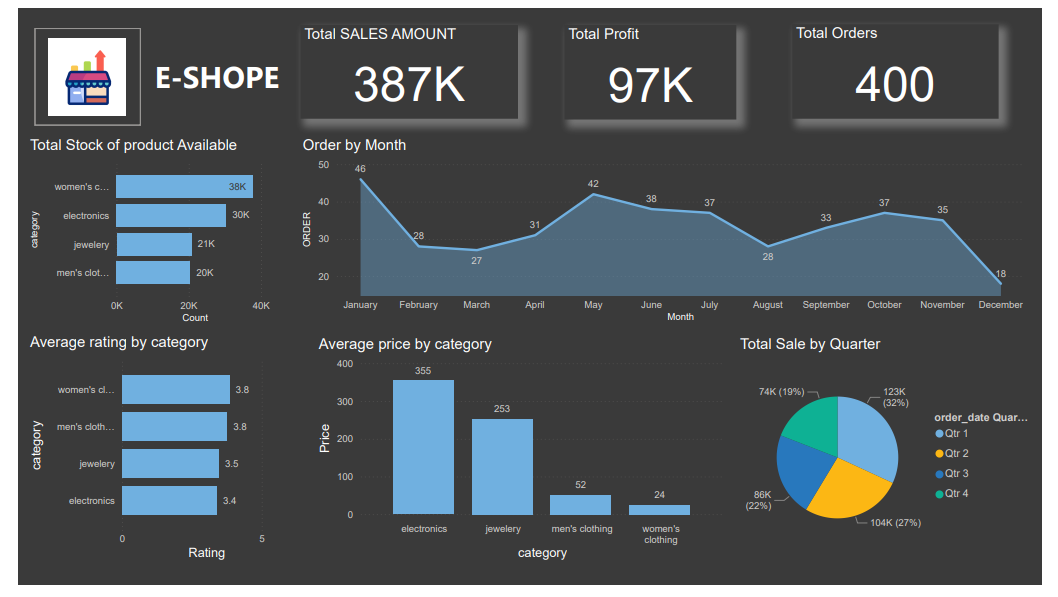

The dashboard page shown, as its layout file describes it:
{"tool":"powerbi","page":{"name":"Page 1","canvas":[1280,720],"ordinal":0},"visuals":[{"type":"clusteredBarChart","title":"Total Stock of product  Available ","fields":{"Category":["public pro_order.category"],"Y":["Sum(public pro_order.count)"]},"box":[10,160,326.2,237.5],"z":0},{"type":"clusteredColumnChart","title":"Average price by category","fields":{"Category":["pro_order.category"],"Y":["Avg(pro_order.price)"]},"box":[371.2,407.5,516.2,285],"z":1000},{"type":"clusteredBarChart","title":"Average rating by category","fields":{"Category":["pro_order.category"],"Y":["Avg(pro_order.rate)"]},"box":[10,406.2,341.2,286.2],"z":2000},{"type":"card","title":"Total SALES AMOUNT","fields":{"Values":["pro_order.Total Sale"]},"box":[352.5,21.2,272.5,116.2],"z":3000},{"type":"card","title":"Total Profit","fields":{"Values":["pro_order.Net_Profit"]},"box":[682.5,21.2,215,117.5],"z":4000},{"type":"pieChart","fields":{"Category":["pro_order.order_date.Variation.Date Hierarchy.Quarter"],"Y":["pro_order.Total Sale"]},"box":[897.5,407.5,375,285],"z":5000},{"type":"areaChart","title":"Order by Month","fields":{"Category":["pro_order.order_date.Variation.Date Hierarchy.Month"],"Y":["CountNonNull(pro_order.order_id)"]},"box":[351,160,915,237],"z":6000},{"type":"card","title":"Total Orders","fields":{"Values":["CountNonNull(pro_order.order_id)"]},"box":[967.5,20,258.8,117.5],"z":7000},{"type":"cardVisual","fields":{"Data":["CountNonNull(pro_order.count)"]},"box":[16.2,20,141.2,131.2],"z":8000},{"type":"textbox","box":[166.2,55,178.8,61.2],"z":9000}]}

Visuals, with their boxes in screenshot pixels (x1, y1, x2, y2), scaled from the page's 1280x720 canvas onto the 1058x597 screenshot:
"Total Stock of product  Available " clusteredBarChart: locate(8, 133, 278, 330)
"Average price by category" clusteredColumnChart: locate(307, 338, 733, 574)
"Average rating by category" clusteredBarChart: locate(8, 337, 290, 574)
"Total SALES AMOUNT" card: locate(291, 18, 517, 114)
"Total Profit" card: locate(564, 18, 742, 115)
pieChart - pro_order.order_date.Variation.Date Hierarchy.Quarter x pro_order.Total Sale: locate(742, 338, 1052, 574)
"Order by Month" areaChart: locate(290, 133, 1046, 329)
"Total Orders" card: locate(800, 17, 1014, 114)
cardVisual - CountNonNull(pro_order.count): locate(13, 17, 130, 125)
textbox: locate(137, 46, 285, 96)
